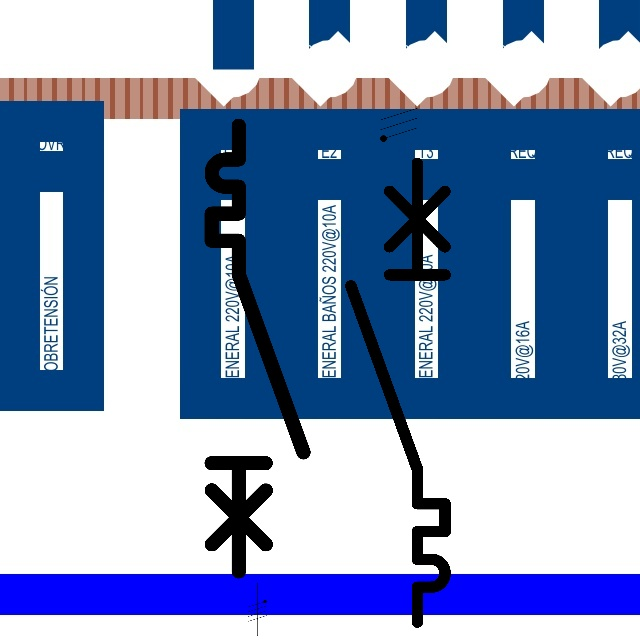interruptor_termomagnetico: (339, 151, 457, 633), (200, 114, 315, 583)
